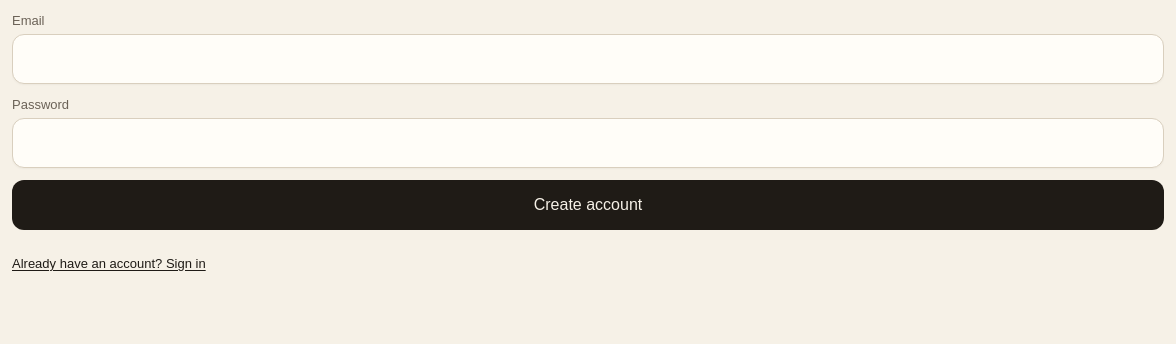
Scenario: a signed-out sign-in path also redeems the invite and shows success
Click the button "Already have an account? Sign in": x=109, y=264 12,242 -> 206,286
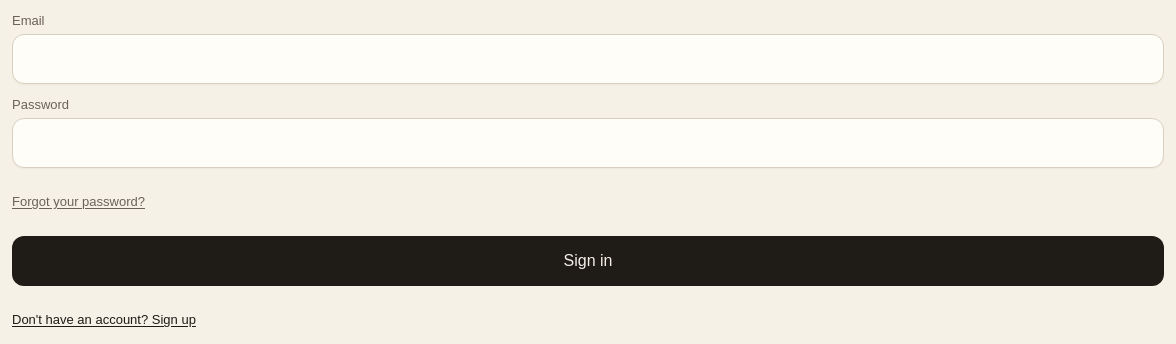
In the field labelled "Email": x=588, y=59 12,34 -> 1164,84, type "person@example.com"
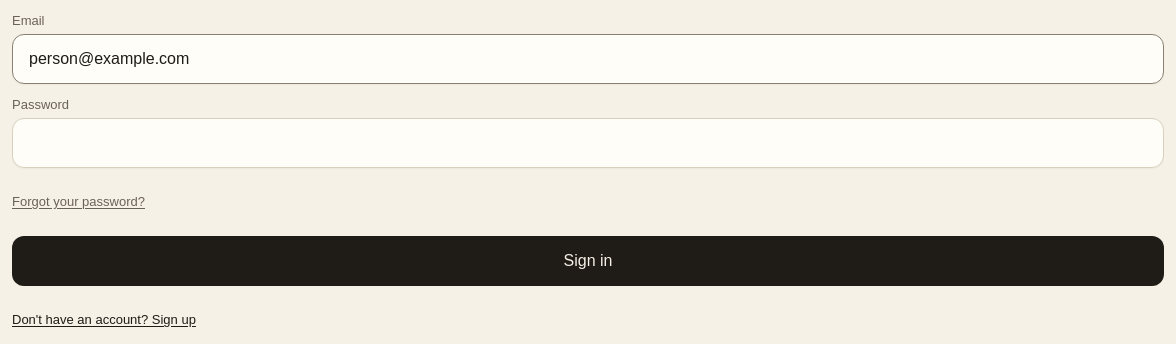
In the password field labelled "Password": x=588, y=143 12,118 -> 1164,168, type "correct-password"
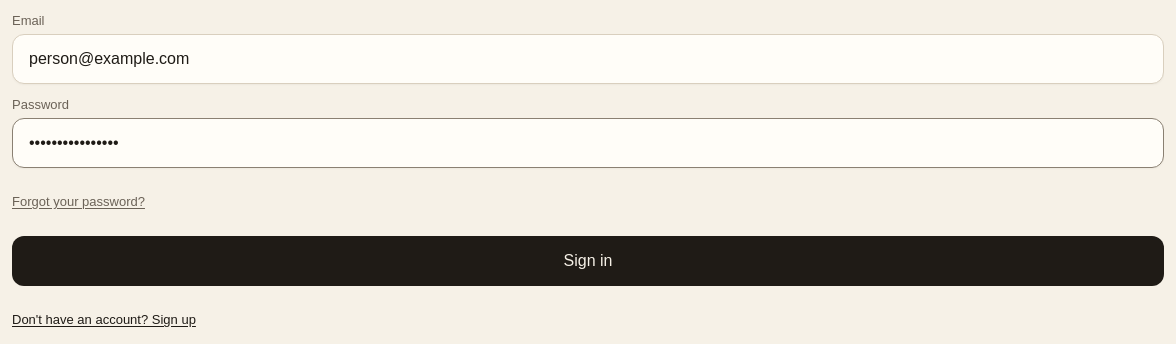
Click the button "Sign in": x=588, y=261 12,236 -> 1164,286
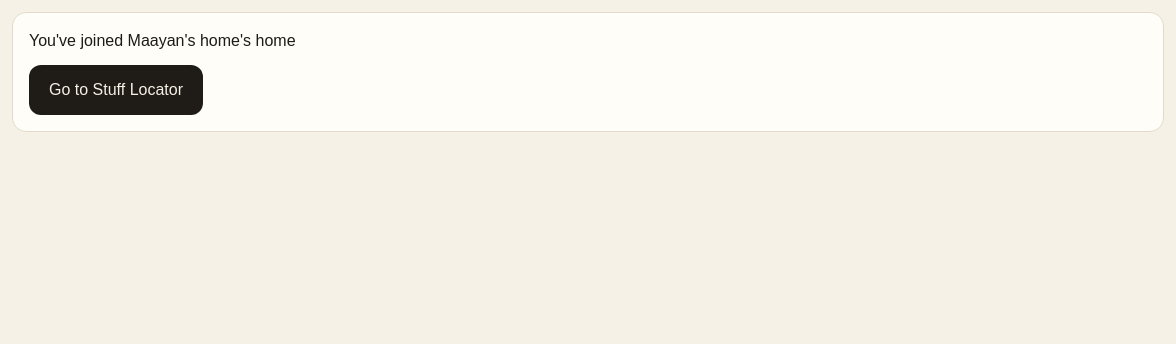
expect the message shows "Maayan's home": met, box 128,32 -> 240,49
